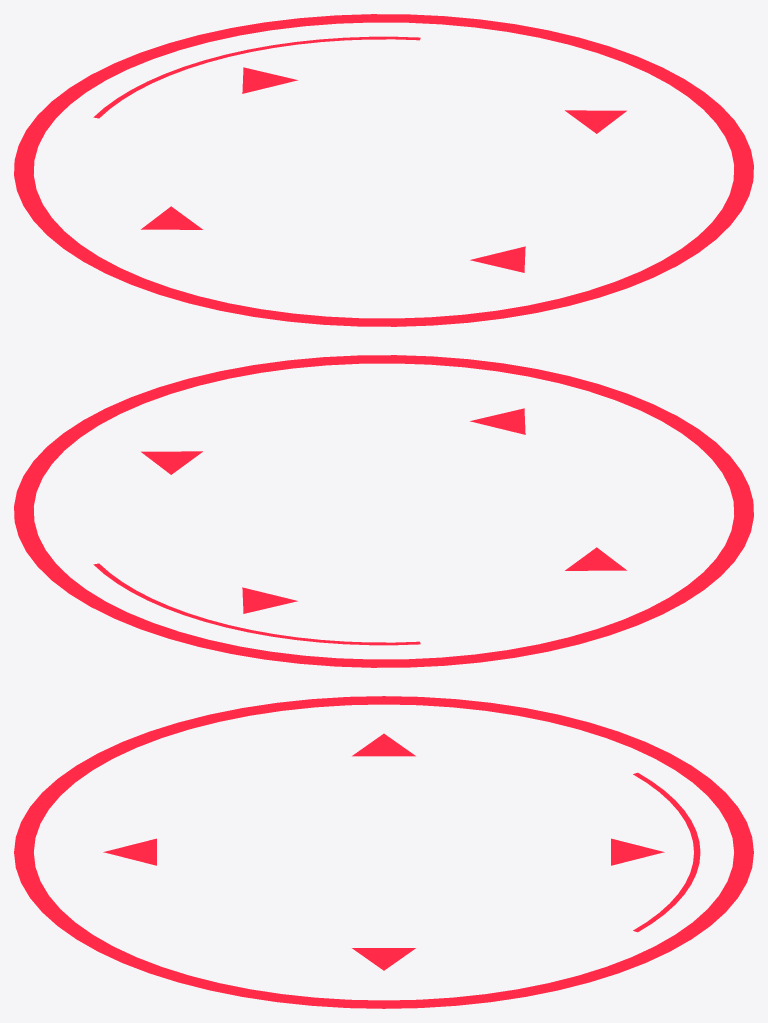
File: HookWarning.glb
The picture shows the model from 3 angles, top to bottom: view 1: azimuth 30°, elevation 25°; view 2: azimuth 150°, elevation 25°; view 3: azimuth 270°, elevation 25°; orthographic projection.
Parts seen in each view (by area): view 1: HookWarning; view 2: HookWarning; view 3: HookWarning.
Boxes of the visible parts, bbox=[...] form: HookWarning: bbox=[14, 14, 753, 326]; HookWarning: bbox=[14, 355, 753, 667]; HookWarning: bbox=[14, 696, 753, 1008].
Bounding box in the file's own units: 2.06 × 0.001 × 2.06.
